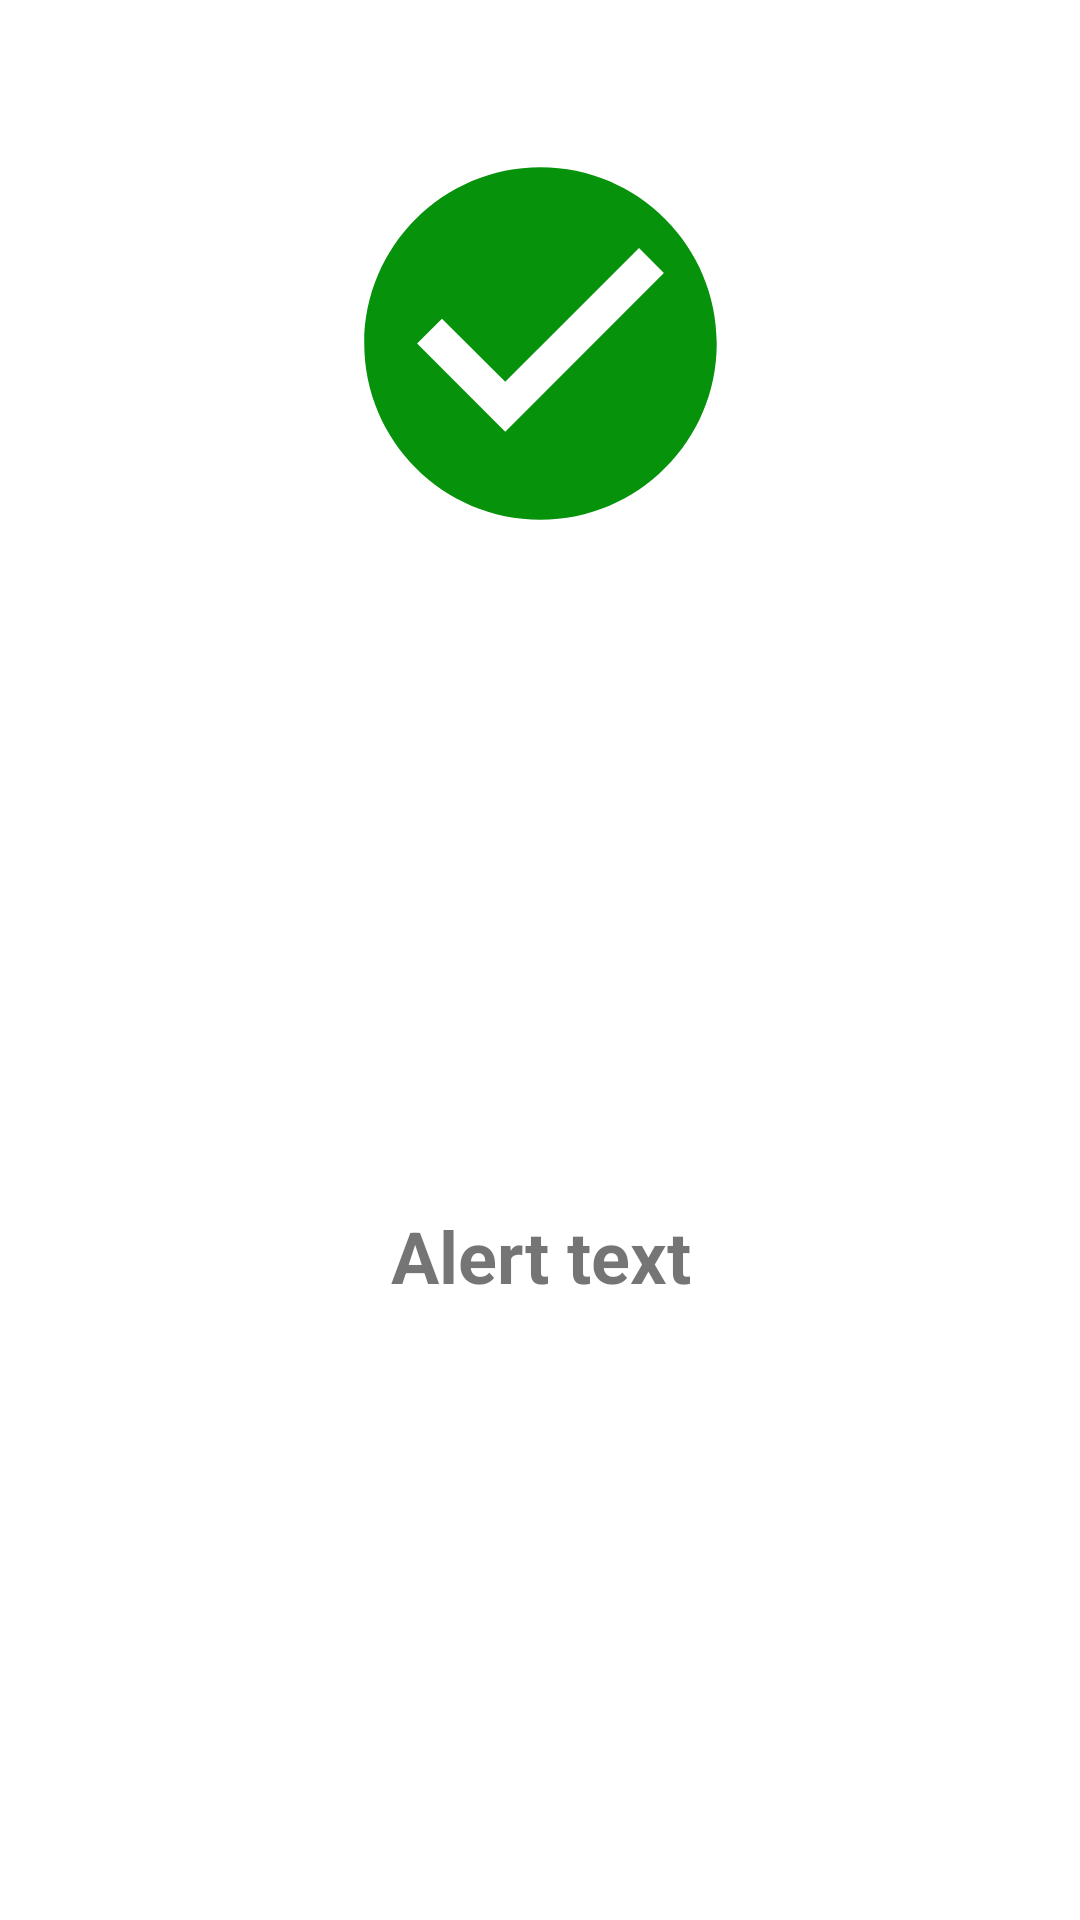

Point at icon controls on the screen. Image size 1080 × 1920, points as point (x, y).
check: point (540, 343)
